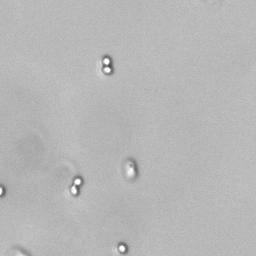budding: (68, 175, 84, 197), (102, 56, 113, 74)
individual: (115, 240, 129, 254)
